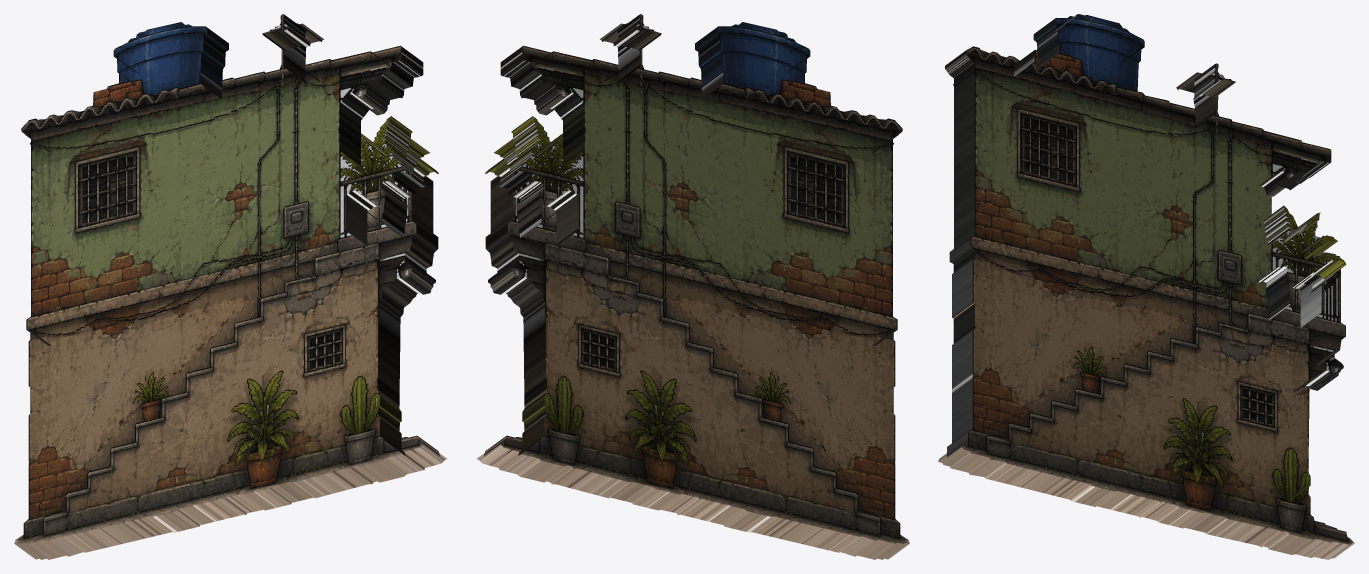
File: house_04_side.glb
3 views of the same model, side by side, from view 1: azimuth 30°, elevation 25°; view 2: azimuth 150°, elevation 25°; view 3: azimuth 330°, elevation 25° (orthographic). The views are drawn at different scales.
Parts seen in each view (by area): view 1: world; view 2: world; view 3: world.
Part boxes in pixels (<box>): world: <box>14,14,446,559</box>; world: <box>477,14,909,559</box>; world: <box>938,14,1354,559</box>.
Bounding box in the file's own units: 7.42 × 8.41 × 0.6736.
Materials: 1 (1 with a texture image).
